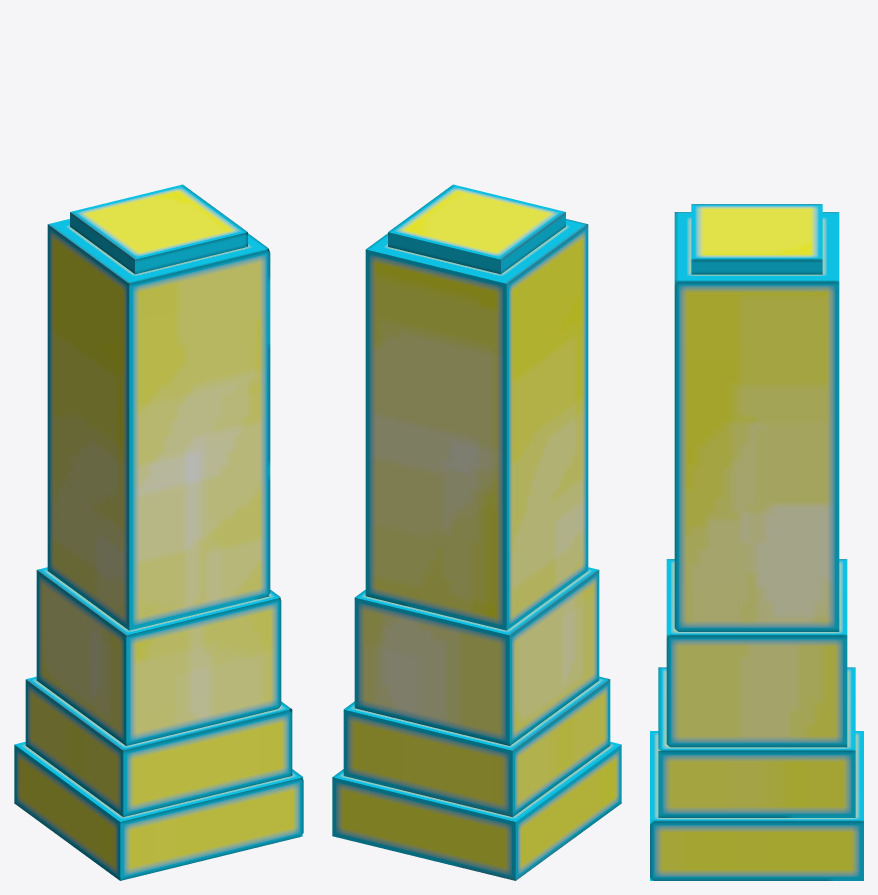
Rendered from beacon.fbx.
3 views of the same model, side by side, from view 1: azimuth 30°, elevation 25°; view 2: azimuth 150°, elevation 25°; view 3: azimuth 270°, elevation 25° (orthographic).
Visible parts, largest first — view 1: cube_3, cube_2, cube_1, cube, cube_4; view 2: cube_3, cube_2, cube_1, cube, cube_4; view 3: cube_3, cube_2, cube_1, cube, cube_4.
Part boxes in pixels (left/top/right/bottom): cube_3: left=47, top=219, right=270, bottom=630; cube_2: left=36, top=567, right=281, bottom=745; cube_1: left=25, top=676, right=292, bottom=817; cube: left=14, top=742, right=303, bottom=880; cube_4: left=70, top=184, right=247, bottom=274; cube_3: left=365, top=219, right=588, bottom=630; cube_2: left=354, top=567, right=599, bottom=745; cube_1: left=343, top=676, right=610, bottom=817; cube: left=332, top=742, right=621, bottom=880; cube_4: left=388, top=184, right=565, bottom=274; cube_3: left=674, top=212, right=839, bottom=631; cube_2: left=666, top=559, right=847, bottom=747; cube_1: left=658, top=667, right=855, bottom=817; cube: left=650, top=731, right=863, bottom=880; cube_4: left=691, top=204, right=822, bottom=274.
Bounding box in the file's own units: 162 × 685 × 162.
1 material, 1 textured.
